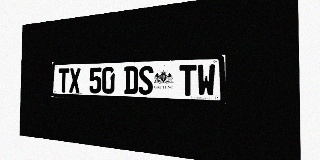0: (102, 67, 115, 94)
5: (89, 67, 102, 93)
D: (124, 66, 138, 94)
S: (138, 66, 153, 95)
T: (179, 64, 196, 96), (58, 68, 69, 93)
W: (197, 64, 215, 96)
X: (69, 68, 80, 93)
